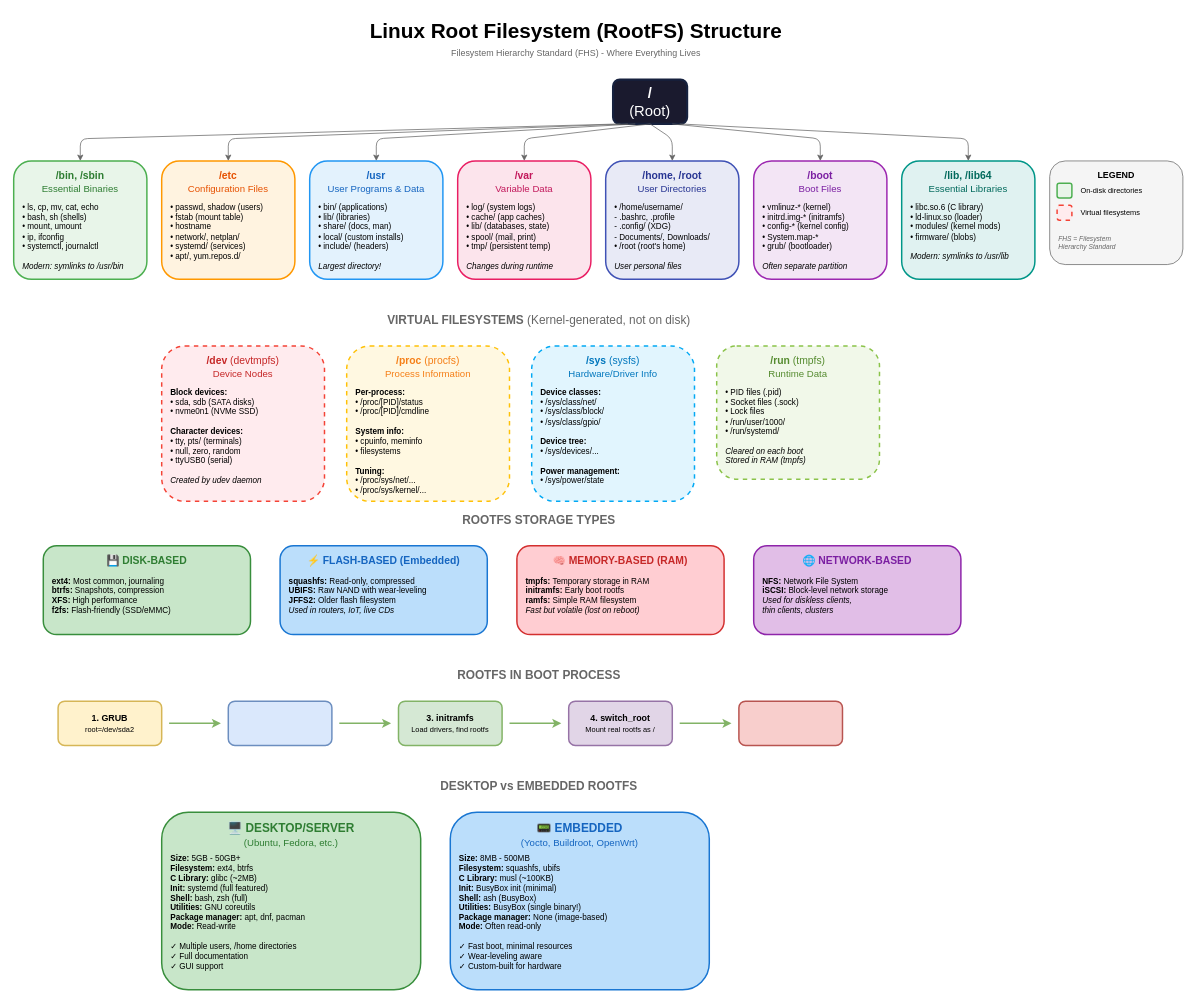
Image size: 1196x1003. Some labels were removed from this diagram. Here are the shapes that lost their labels. From the top down, the centre of each, then its label:
At point 279,723: "2. Kernel Loads initramfs".
At point 790,723: "5. /sbin/init systemd starts (PID 1)".
